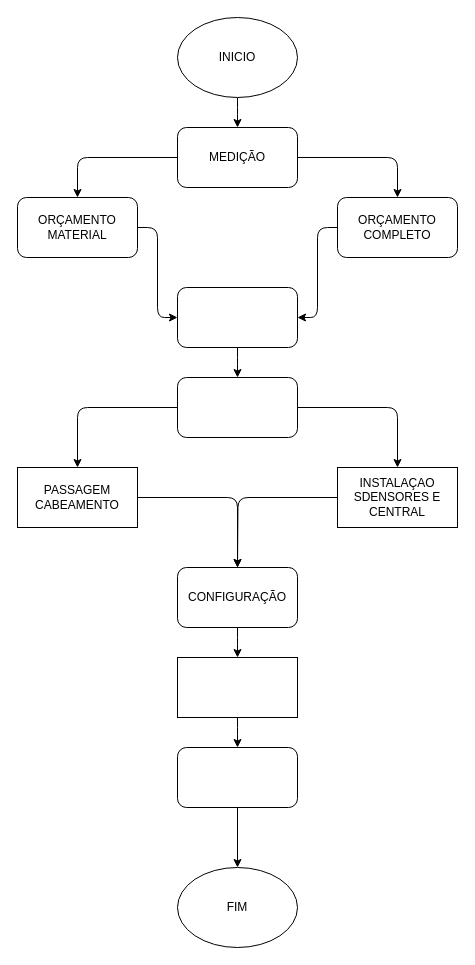
Some shapes in this 475 by 965 pixel diagram are drawn without their labels. The box of each missing label's shape, as (x1, y1, x2, y2) in pixels:
CABEAMENTO: (176, 376, 298, 438)
CONFIGURAÇÃO MANUAL E REMOTA: (176, 656, 298, 718)
CONTRATO: (176, 286, 298, 348)
TESTE E EXPLICAÇAO AO CLIENTE: (176, 746, 298, 808)
